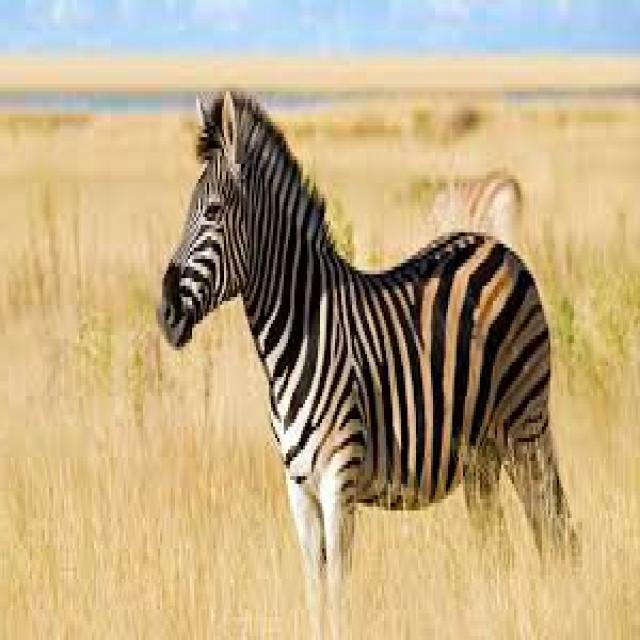zebra: (160, 91, 574, 636)
